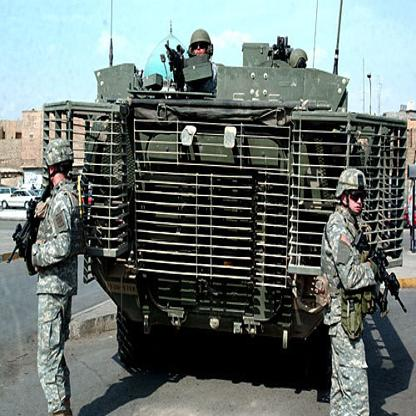Tank: (28, 28, 416, 386)
